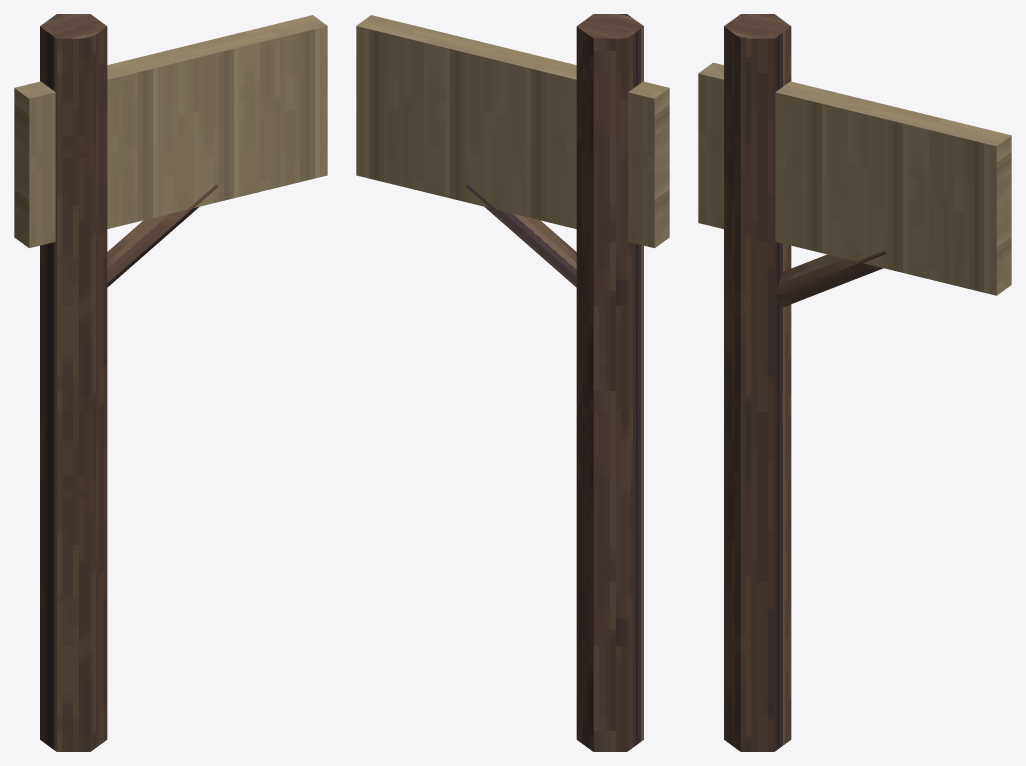
The model's file is signpost.glb.
3 views of the same model, side by side, from view 1: azimuth 30°, elevation 25°; view 2: azimuth 150°, elevation 25°; view 3: azimuth 330°, elevation 25° (orthographic).
Parts seen in each view (by area): view 1: signpost; view 2: signpost; view 3: signpost.
Part boxes in pixels (<box>): signpost: <box>14,14,327,751</box>; signpost: <box>356,14,669,751</box>; signpost: <box>698,14,1011,751</box>.
Size of the model in its own units: 0.92 by 2.1 by 0.18.
Materials: 2 (2 with a texture image).
